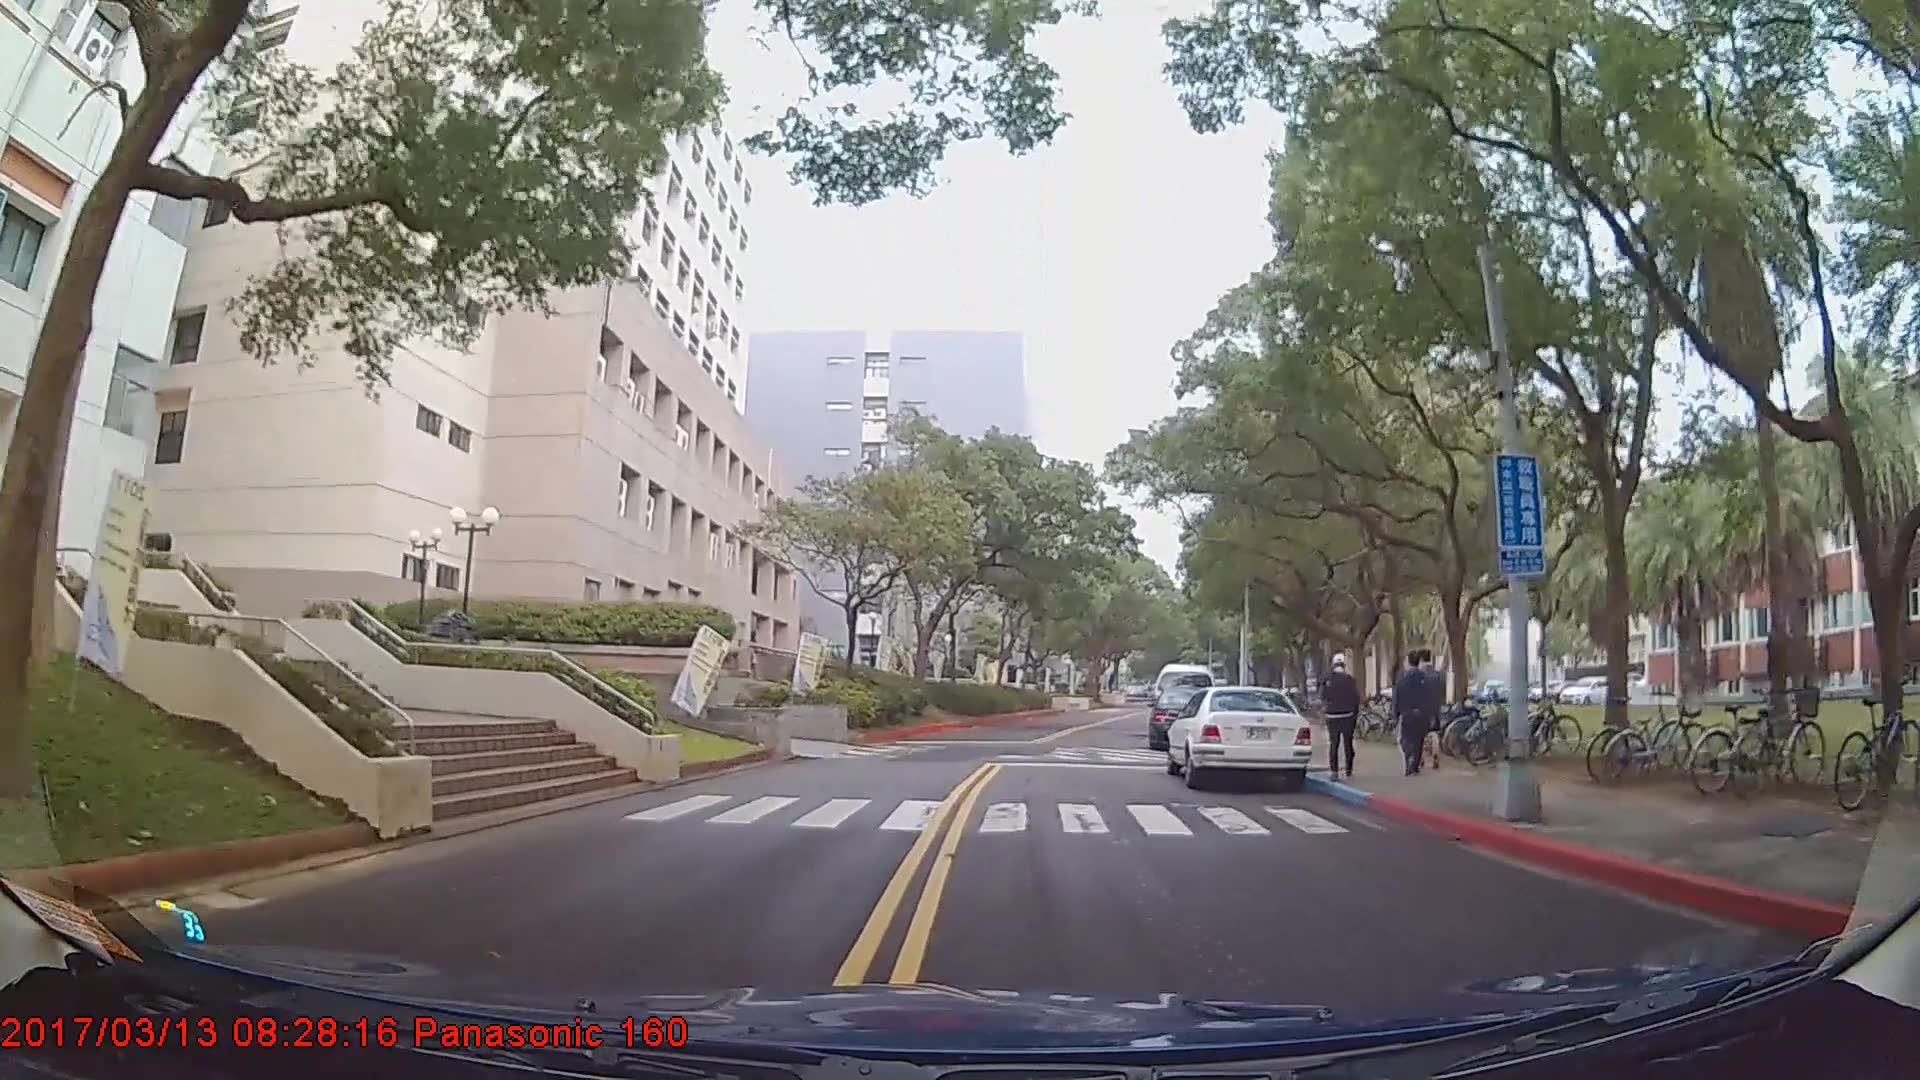pedestrian: (1394, 643, 1442, 779), (1323, 650, 1363, 780)
vehicle: (1162, 685, 1311, 790)
